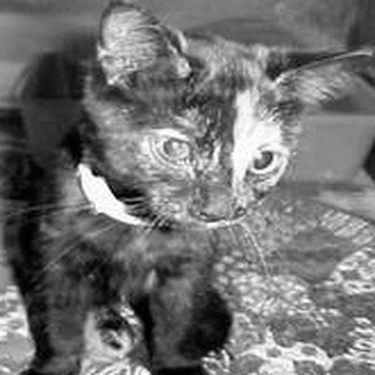cat: (9, 9, 348, 322)
